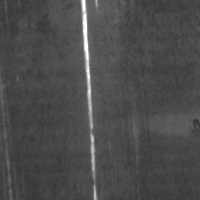scratches: (80, 1, 100, 197)
